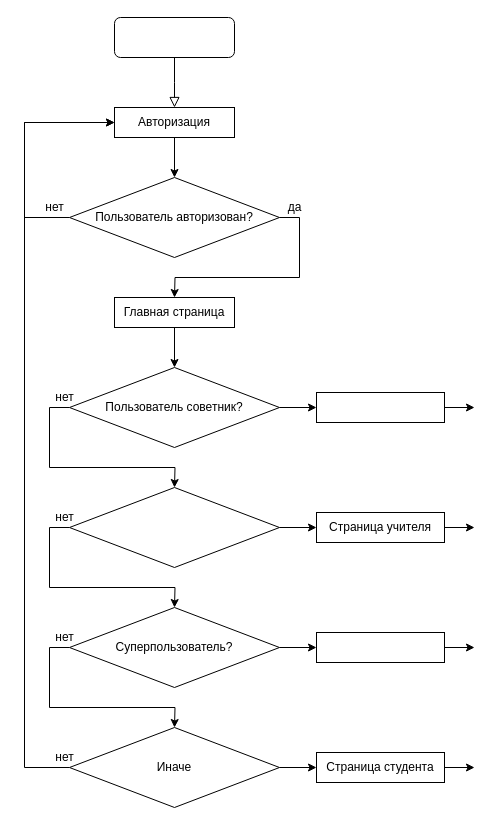
Some shapes in this 500 by 825 pixel diagram are drawn without their labels. The centre of each missing label's shape, as x and y in pixels:
начало: (174,37)
Пользователь учитель? Не советник?: (174,527)
Страница переадрессации: (380,647)
Страница советника: (380,407)
